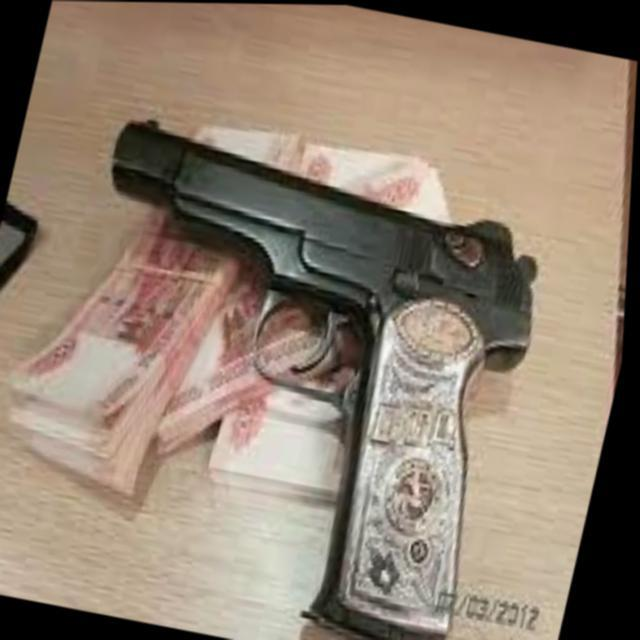weapon: (17, 106, 566, 640)
